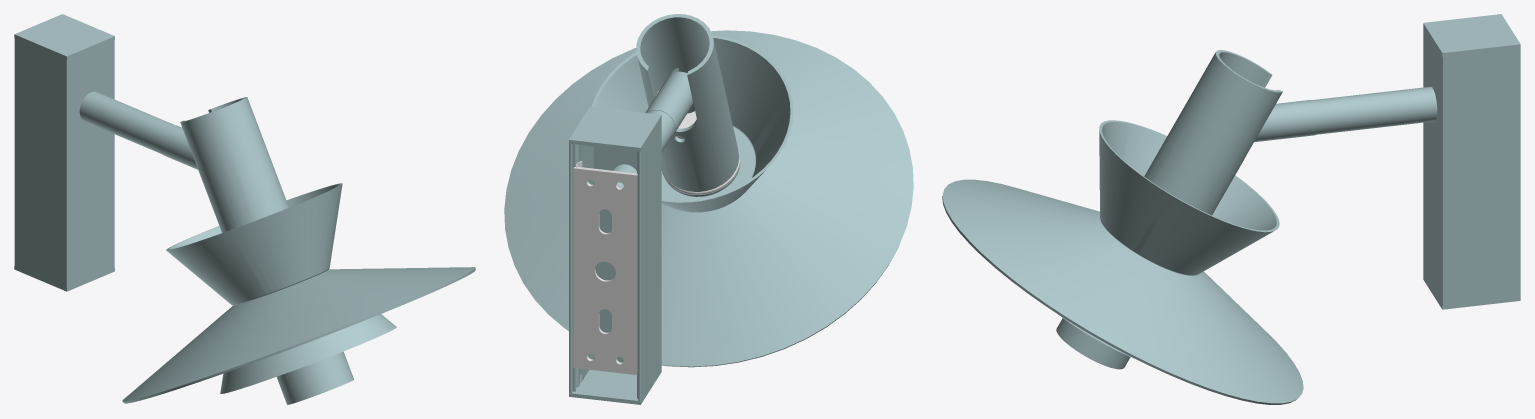
Rendered from ColibriArandela.glb.
3 renders of one model, left to right at view 1: azimuth 30°, elevation 25°; view 2: azimuth 150°, elevation 25°; view 3: azimuth 270°, elevation 25°, orthographic. The views are drawn at different scales.
Visible parts, largest first — view 1: 3DGeom-14, 3DGeom-29, 3DGeom-30, 3DGeom-23, 3DGeom-28, 3DGeom-21, 3DGeom-19, 3DGeom-24, 3DGeom-20; view 2: 3DGeom-29, 3DGeom-1, 3DGeom-23, 3DGeom-30, 3DGeom-14, 3DGeom-19, 3DGeom-20, 3DGeom-24, 3DGeom-21, 3DGeom-17; view 3: 3DGeom-29, 3DGeom-14, 3DGeom-30, 3DGeom-23, 3DGeom-21, 3DGeom-19, 3DGeom-24.
Part boxes in pixels (x1,y1,x2,y2): 3DGeom-14: (14, 38, 114, 287); 3DGeom-29: (122, 267, 475, 403); 3DGeom-30: (166, 183, 342, 305); 3DGeom-23: (180, 97, 353, 404); 3DGeom-28: (220, 314, 396, 393); 3DGeom-21: (79, 91, 173, 153); 3DGeom-19: (14, 14, 114, 59); 3DGeom-24: (159, 125, 197, 169); 3DGeom-20: (14, 266, 114, 291); 3DGeom-29: (504, 30, 913, 367); 3DGeom-1: (573, 167, 637, 374); 3DGeom-23: (636, 14, 740, 196); 3DGeom-30: (591, 35, 793, 212); 3DGeom-14: (569, 119, 661, 400); 3DGeom-19: (569, 106, 661, 151); 3DGeom-20: (569, 369, 661, 404); 3DGeom-24: (645, 67, 693, 137); 3DGeom-21: (613, 110, 674, 187); 3DGeom-17: (581, 145, 593, 381); 3DGeom-29: (942, 179, 1303, 404); 3DGeom-14: (1423, 27, 1520, 305); 3DGeom-30: (1099, 120, 1279, 275); 3DGeom-23: (1056, 50, 1282, 369); 3DGeom-21: (1312, 86, 1437, 134); 3DGeom-19: (1423, 14, 1520, 56); 3DGeom-24: (1254, 100, 1317, 142).
Bounding box in the file's own units: 0.1486 × 0.1279 × 0.2105.
